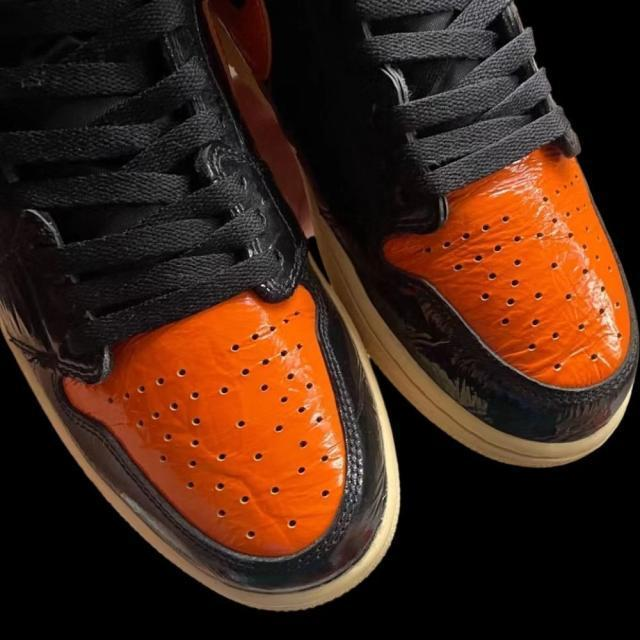nike original jordan 1: (0, 0, 402, 618), (205, 2, 637, 472)
